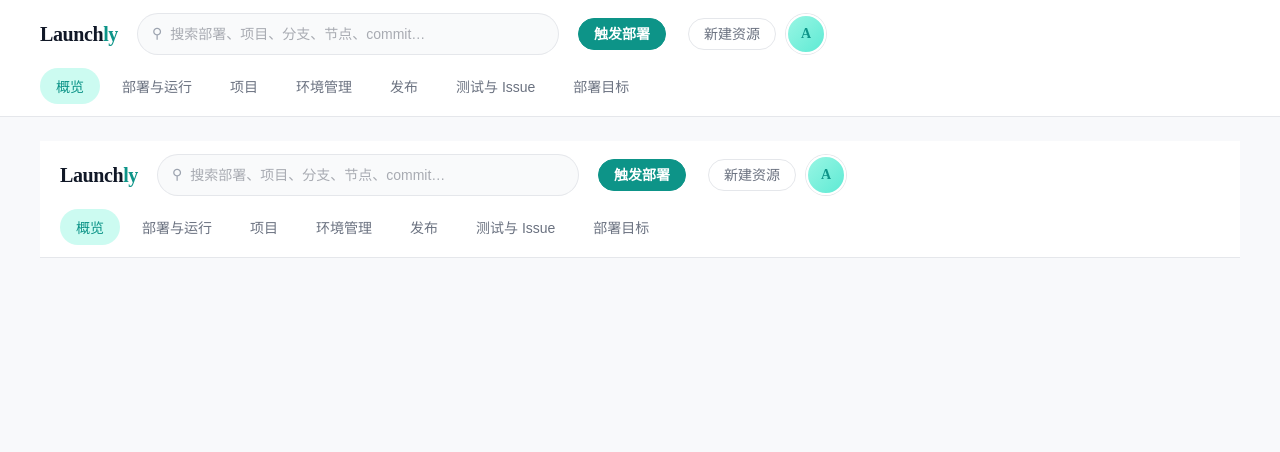
AppLayout › A.1.10 搜索结果列表渲染匹配的项目
Type "marketing" into the 1st field with placeholder "搜索部署、项目、分支、节点、commit…". click: (357, 34)
box: [170,19,544,49]
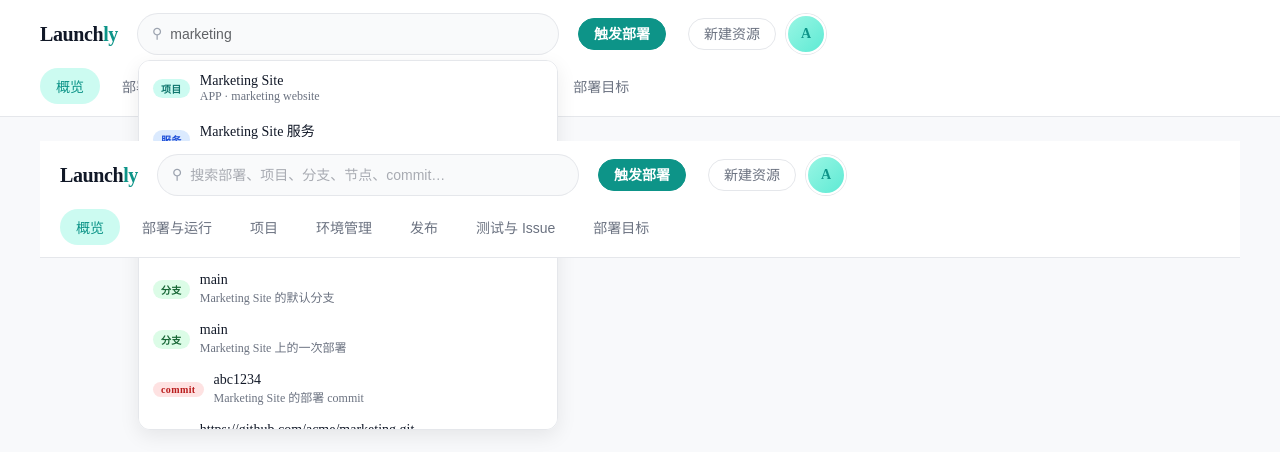
Expected: the list with test id "global-search-results" is shown, [153,73,414,430]
Expected: the list with test id "global-search-results" shows "Marketing Site", [200,73,283,88]
